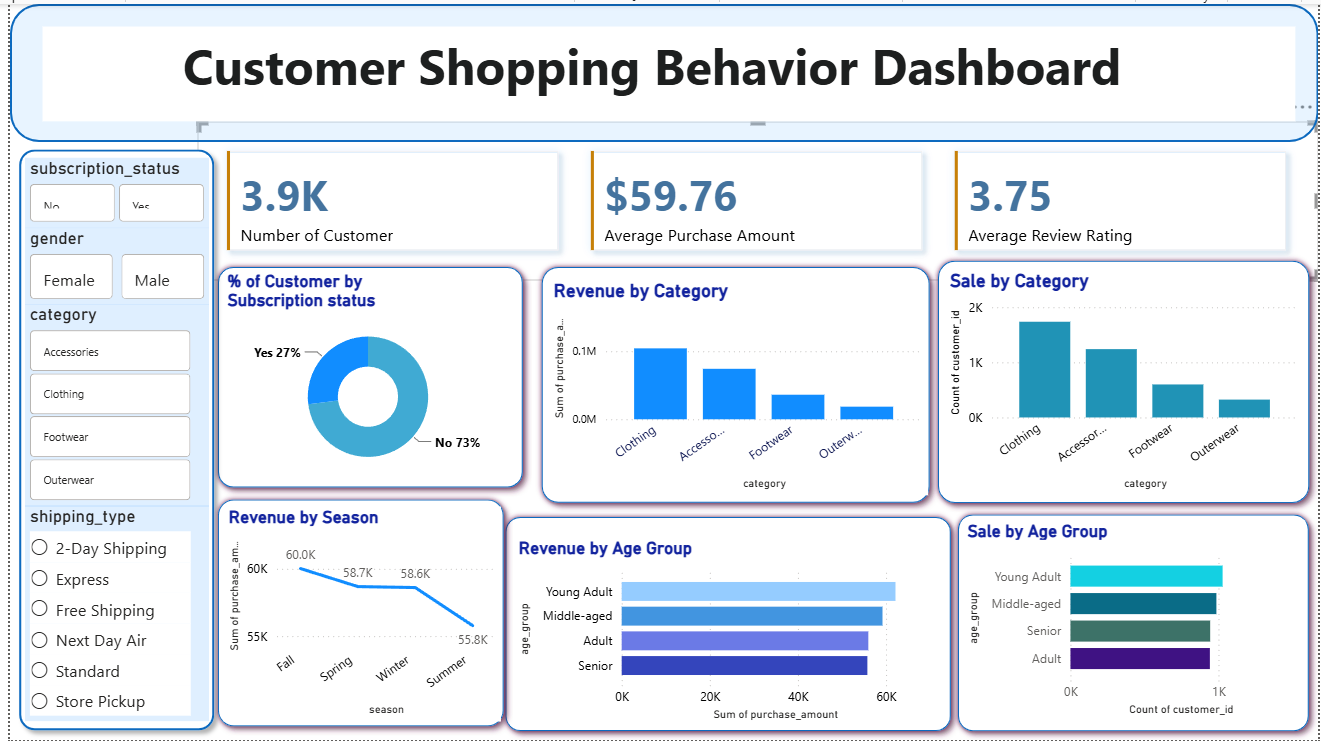

The dashboard page shown, as its layout file describes it:
{"tool":"powerbi","page":{"name":"Page 1","canvas":[1280,720],"ordinal":0},"visuals":[{"type":"cardVisual","fields":{"Data":["public customer.Number of Customer","public customer.Average Purchase Amount","public customer.Average Review Rating"]},"box":[183.8,115,1096.2,155],"z":0},{"type":"shape","box":[0,0,1280,135],"z":1000},{"type":"textbox","box":[31.8,22,1225.3,92.9],"z":2000},{"type":"shape","box":[195,248.8,316.2,233.8],"z":3000},{"type":"donutChart","title":"% of Customer by Subscription status","fields":{"Category":["public customer.subscription_status"],"Y":["CountNonNull(public customer.customer_id)"]},"box":[207.5,260,285,206.2],"z":4000},{"type":"shape","box":[511.2,248.8,397.5,248.8],"z":5000},{"type":"shape","box":[898.8,242.5,381.2,255],"z":6000},{"type":"columnChart","title":"Revenue by Category","fields":{"Category":["public customer.category"],"Y":["Sum(public customer.purchase_amount)"]},"box":[527.5,270,371.2,210],"z":7000},{"type":"clusteredColumnChart","title":"Sale by Category","fields":{"Category":["public customer.category"],"Y":["CountNonNull(public customer.customer_id)"]},"box":[915,260,351.2,220],"z":8000},{"type":"shape","box":[0,133.8,208.8,586.2],"z":9000},{"type":"advancedSlicerVisual","fields":{"Values":["public customer.subscription_status"]},"box":[15,150,180,68.8],"z":10000},{"type":"advancedSlicerVisual","fields":{"Values":["public customer.gender"]},"box":[15,218.8,180,75],"z":11000},{"type":"advancedSlicerVisual","fields":{"Values":["public customer.category"]},"box":[15,293.8,180,198.8],"z":12000},{"type":"listSlicer","fields":{"Values":["public customer.shipping_type"]},"box":[15,490,180,211.2],"z":13000},{"type":"shape","box":[476.2,492.5,453.8,227.5],"z":14000},{"type":"clusteredBarChart","title":"Revenue by Age Group","fields":{"Category":["public customer.age_group"],"Y":["Sum(public customer.purchase_amount)"]},"box":[492.5,522.5,422.5,183.8],"z":15000},{"type":"shape","box":[918.8,490,361.2,230],"z":16000},{"type":"clusteredBarChart","title":"Sale by Age Group","fields":{"Category":["public customer.age_group"],"Y":["CountNonNull(public customer.customer_id)"]},"box":[931.2,505,335,196.2],"z":17000},{"type":"shape","box":[195,476.2,297.5,240],"z":18000},{"type":"lineChart","title":"Revenue by Season","fields":{"Category":["public customer.season"],"Y":["Sum(public customer.purchase_amount)"]},"box":[208.8,491.2,271.2,210],"z":19000}]}

Visuals, with their boxes in screenshot pixels (x1, y1, x2, y2), scaled from the page's 1280x720 canvas onto the 1321x742 screenshot:
cardVisual - public customer.Number of Customer x public customer.Average Purchase Amount: region(190, 119, 1320, 278)
shape: region(0, 0, 1320, 139)
textbox: region(33, 23, 1297, 118)
shape: region(201, 256, 528, 497)
"% of Customer by Subscription status" donutChart: region(214, 268, 508, 480)
shape: region(528, 256, 938, 513)
shape: region(928, 250, 1320, 513)
"Revenue by Category" columnChart: region(544, 278, 927, 495)
"Sale by Category" clusteredColumnChart: region(944, 268, 1307, 495)
shape: region(0, 138, 215, 741)
advancedSlicerVisual - public customer.subscription_status: region(15, 155, 201, 225)
advancedSlicerVisual - public customer.gender: region(15, 225, 201, 303)
advancedSlicerVisual - public customer.category: region(15, 303, 201, 508)
listSlicer - public customer.shipping_type: region(15, 505, 201, 723)
shape: region(491, 508, 960, 741)
"Revenue by Age Group" clusteredBarChart: region(508, 538, 944, 728)
shape: region(948, 505, 1320, 741)
"Sale by Age Group" clusteredBarChart: region(961, 520, 1307, 723)
shape: region(201, 491, 508, 738)
"Revenue by Season" lineChart: region(215, 506, 495, 723)
